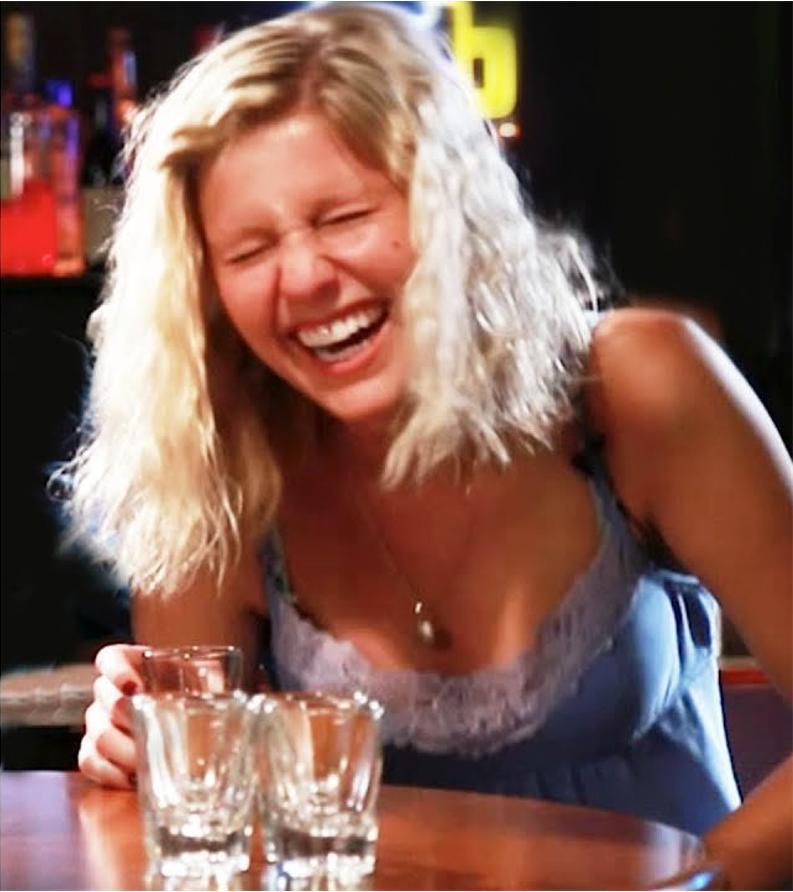Drunk: (201, 140, 423, 402)
